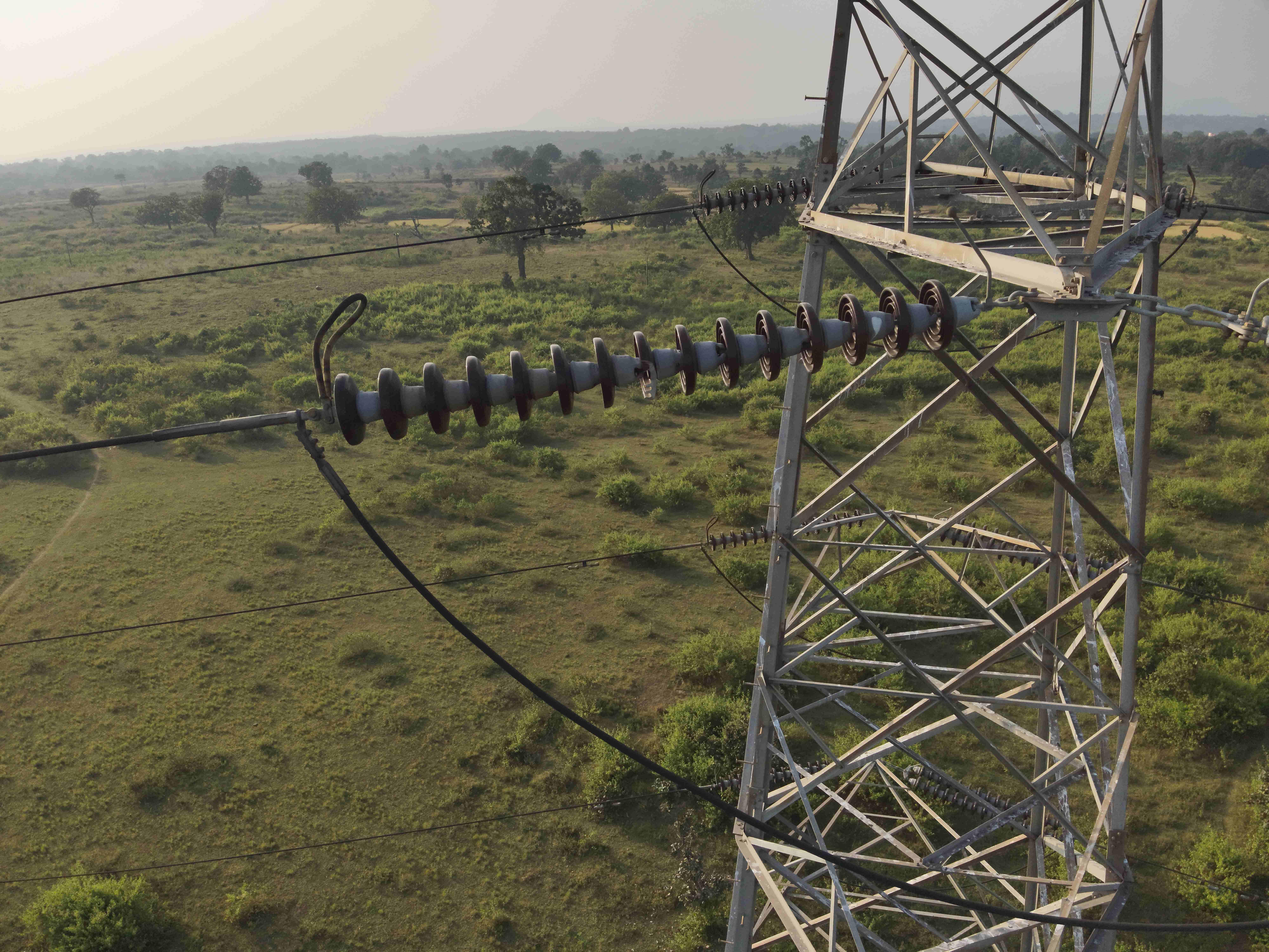broken_insulator: (621, 324, 668, 407)
